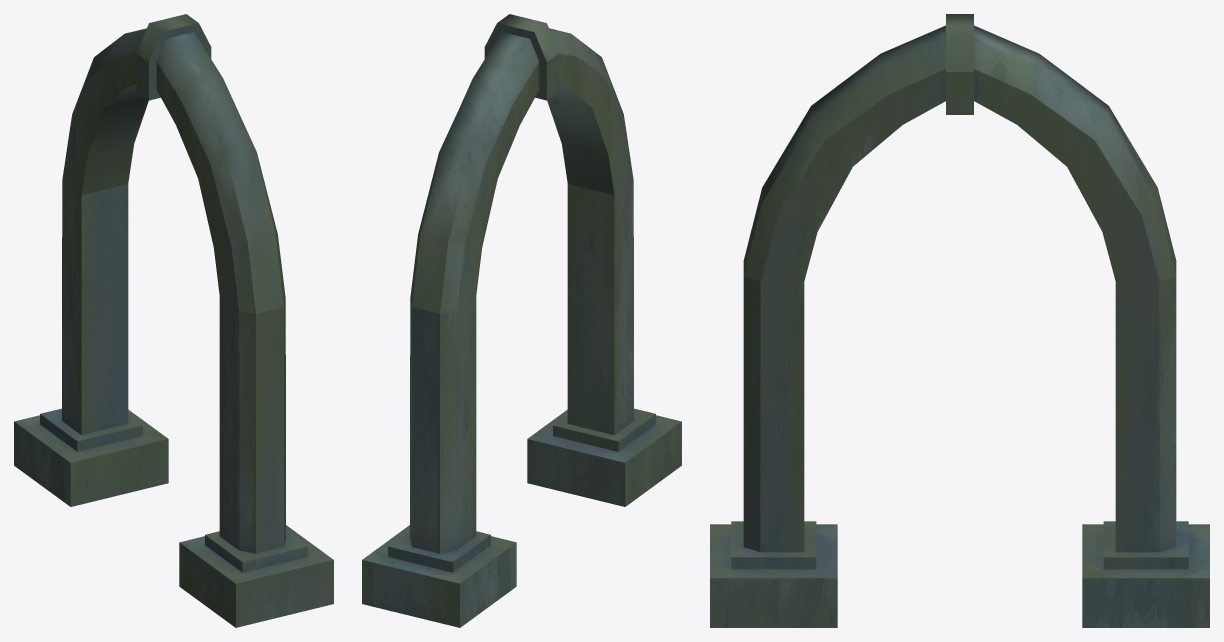
File: Pillars_Arch_Sharp.fbx
3 views of the same model, side by side, from view 1: azimuth 30°, elevation 25°; view 2: azimuth 150°, elevation 25°; view 3: azimuth 270°, elevation 25° (orthographic). The views are drawn at different scales.
Parts seen in each view (by area): view 1: Pillar_arch_sharp; view 2: Pillar_arch_sharp; view 3: Pillar_arch_sharp.
Part boxes in pixels (box(x1,y1,x2,y2)): Pillar_arch_sharp: box(14, 14, 333, 627); Pillar_arch_sharp: box(362, 14, 681, 627); Pillar_arch_sharp: box(710, 14, 1209, 627).
Bounding box in the file's own units: 539 × 2689 × 2111.
